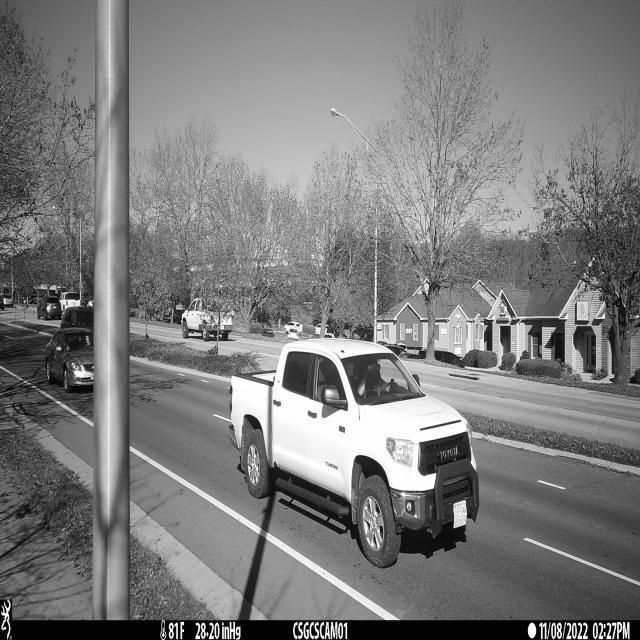Pickup: (231, 335, 480, 570)
